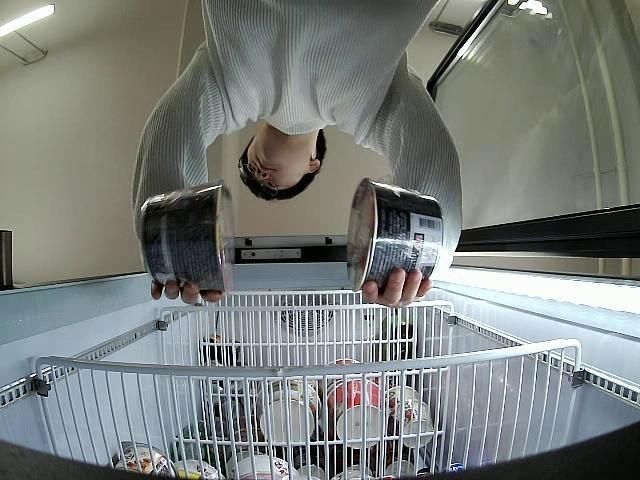07_buldak_L: (138, 181, 236, 292), (348, 178, 443, 290)
